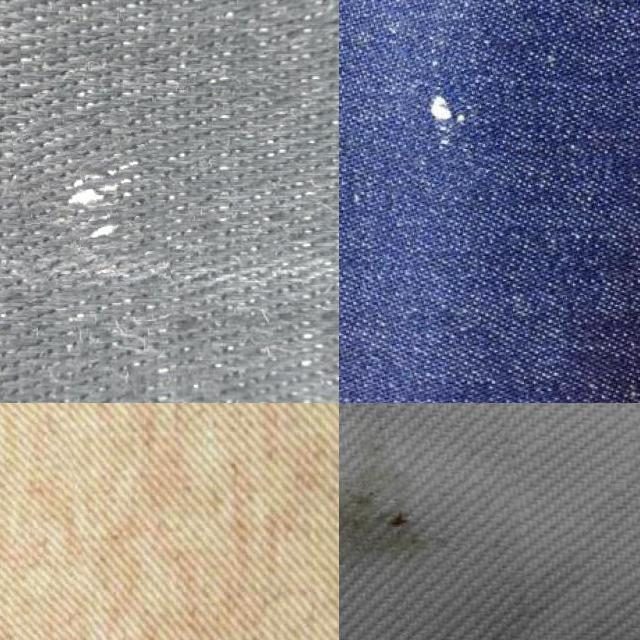Hole: (339, 403, 525, 640)
Thread_other: (16, 113, 168, 297), (0, 403, 90, 640), (400, 16, 512, 192)
